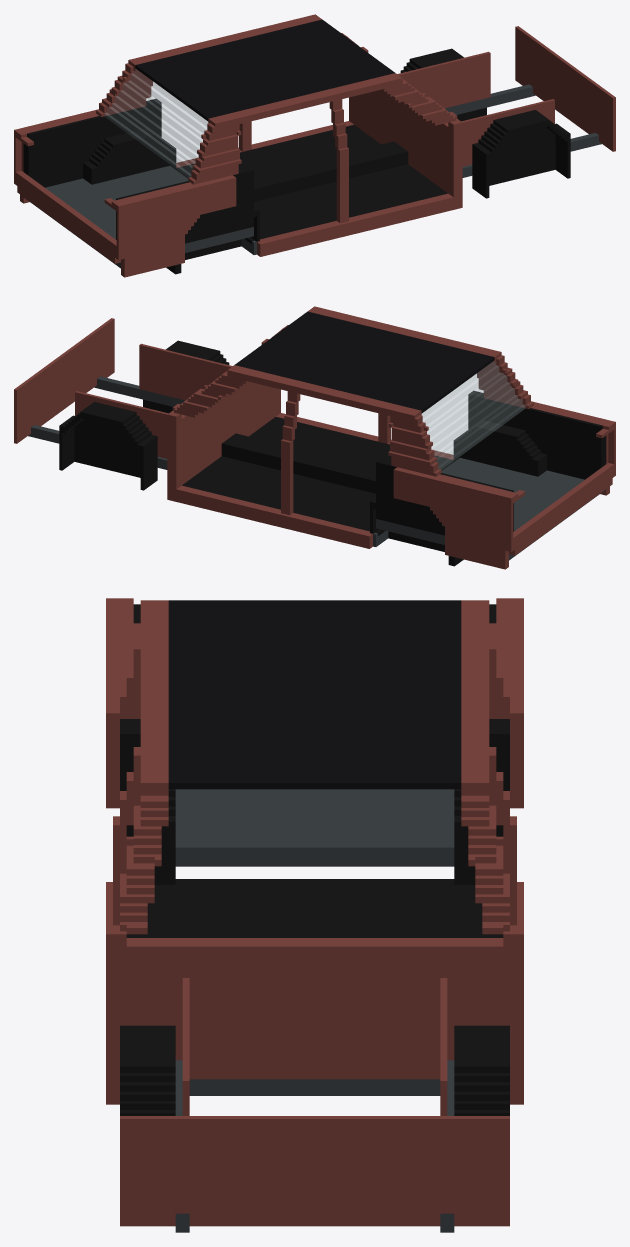
File: luxury_saloon_shell.glb
The picture shows the model from 3 angles, top to bottom: view 1: azimuth 30°, elevation 25°; view 2: azimuth 150°, elevation 25°; view 3: azimuth 270°, elevation 25°; orthographic projection. The views are drawn at different scales.
Parts seen in each view (by area): view 1: body:compound; view 2: body:compound; view 3: body:compound.
Boxes of the visible parts, <box> form: body:compound: <box>14,14,615,277</box>; body:compound: <box>14,306,615,569</box>; body:compound: <box>106,598,523,1232</box>.
Size of the model in its own units: 5.19 by 1.34 by 1.88.
